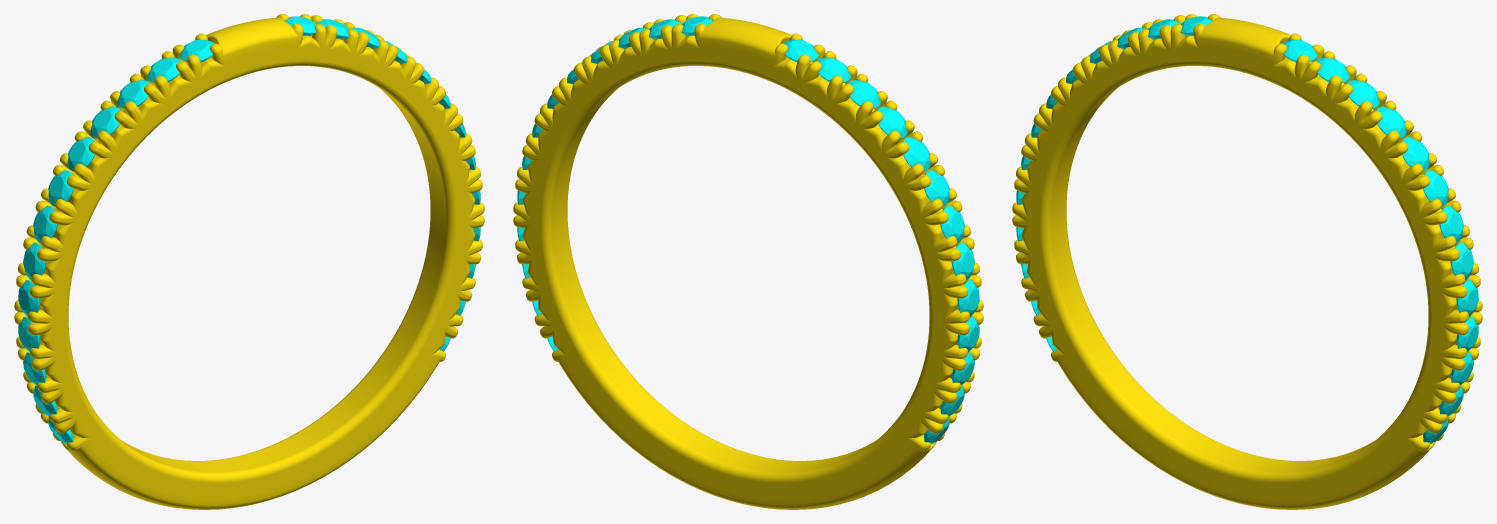
Rendered from PLATE-PRONG.glb.
The picture shows the model from 3 angles, left to right: view 1: azimuth 30°, elevation 25°; view 2: azimuth 150°, elevation 25°; view 3: azimuth 330°, elevation 25°; orthographic projection.
Parts seen in each view (by area): view 1: metal_merged, SH-FrenchPave-13dm; view 2: metal_merged, SH-FrenchPave-13dm; view 3: metal_merged, SH-FrenchPave-13dm.
Boxes of the visible parts, <box> form: metal_merged: <box>14,14,484,509</box>; SH-FrenchPave-13dm: <box>18,16,480,443</box>; metal_merged: <box>513,14,983,509</box>; SH-FrenchPave-13dm: <box>517,16,979,443</box>; metal_merged: <box>1012,14,1482,509</box>; SH-FrenchPave-13dm: <box>1016,16,1478,443</box>.
Size of the model in its own units: 15.97 by 15.97 by 1.39.
